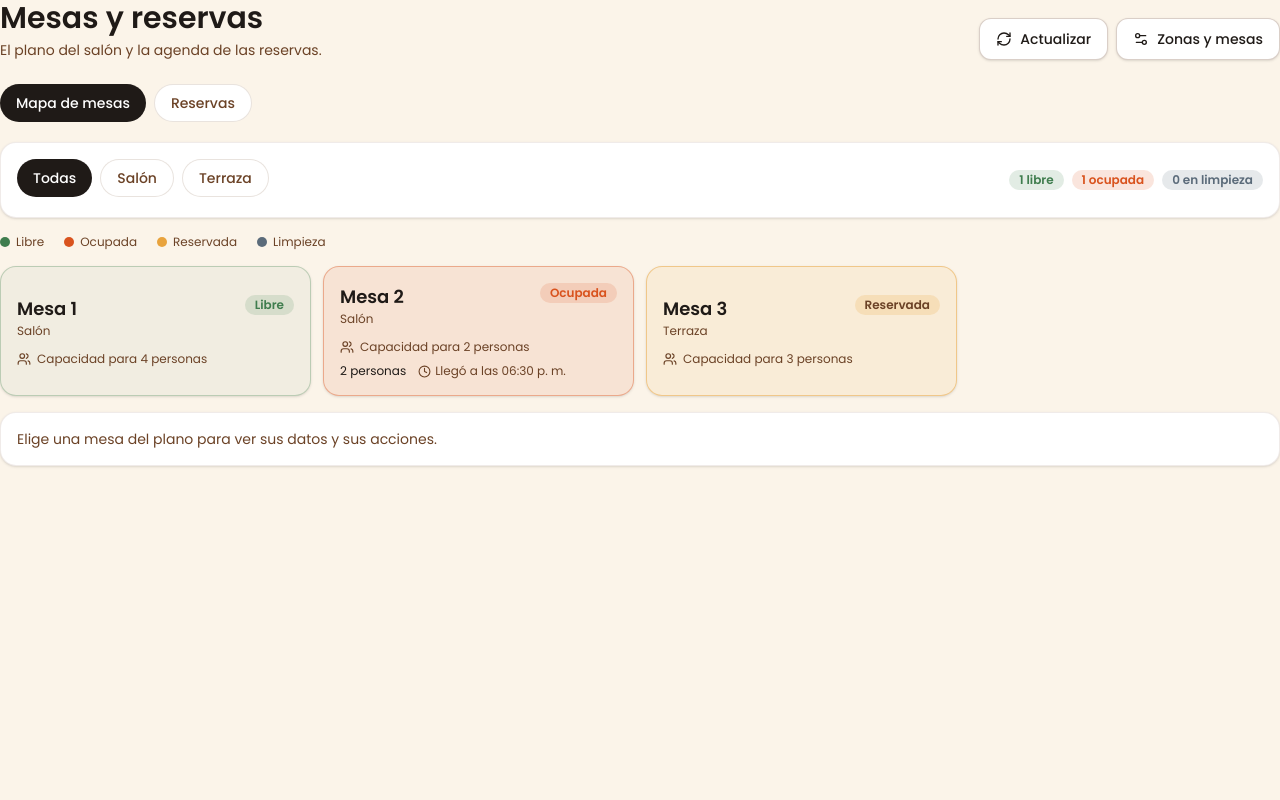
Mesas › registra una llegada, manda personas y refresca la mesa
The image size is (1280, 800).
Click the button with aria-label "Mesa 1, Salón, Libre, capacidad 4" at (44,308), box [0,266,311,396]
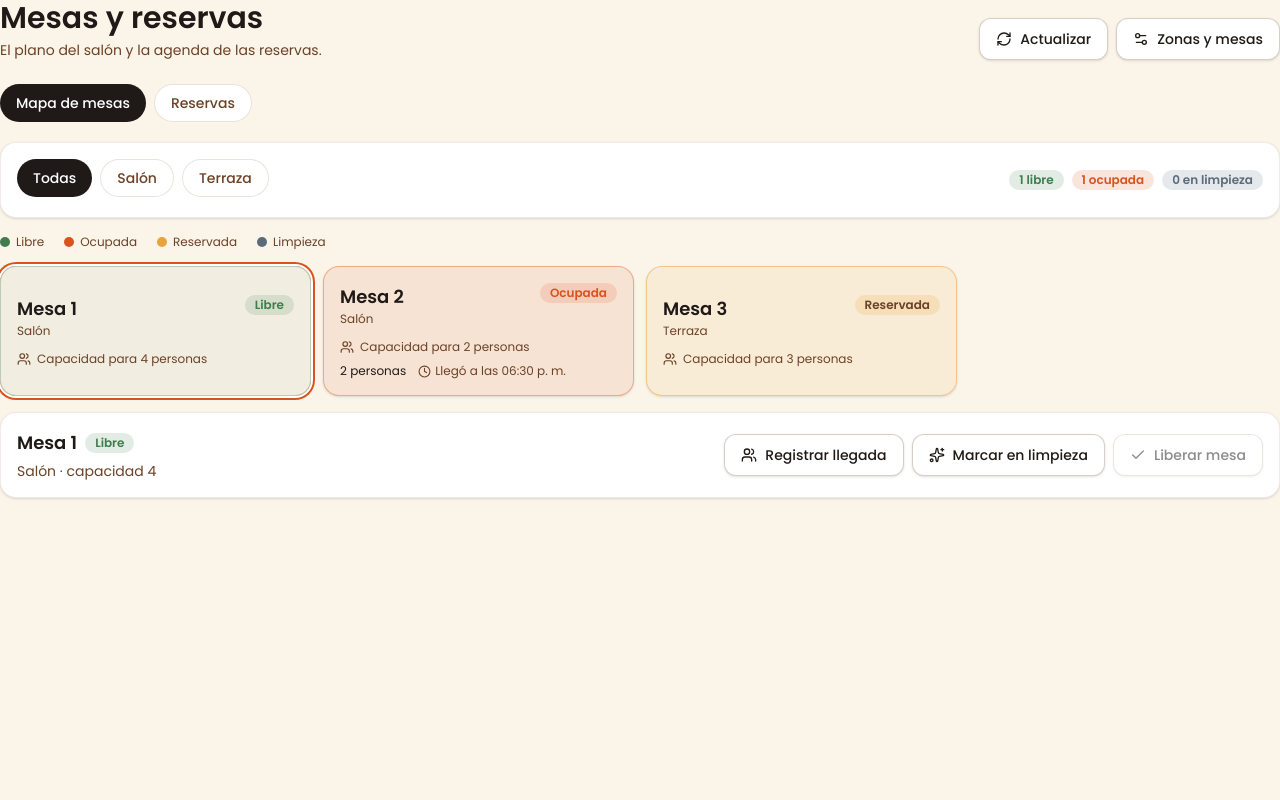
Click the button "Registrar llegada" at (814,455), box [724,434,904,476]
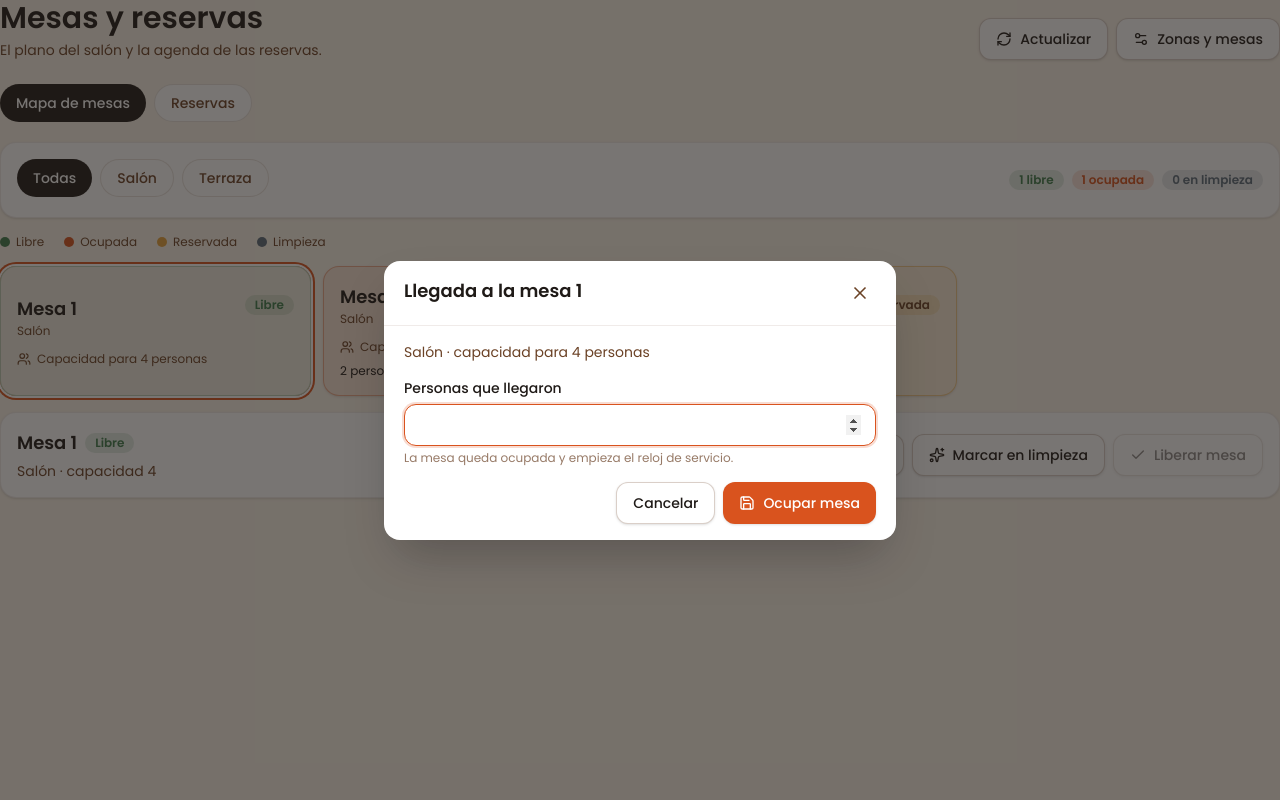
Type "3" into the number field labelled "Personas que llegaron" at (640,424), box [404,404,876,446]
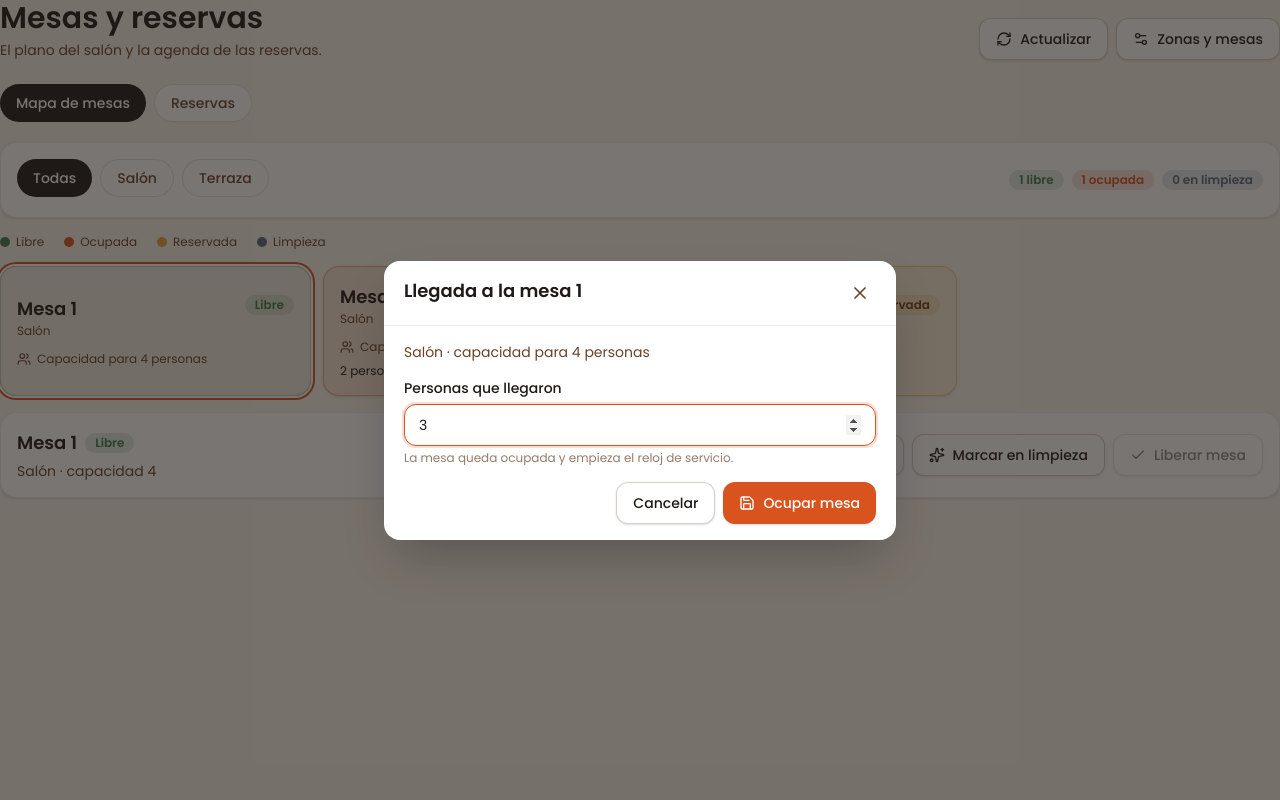
Click the button "Ocupar mesa" at (800,502), box [723,482,876,524]
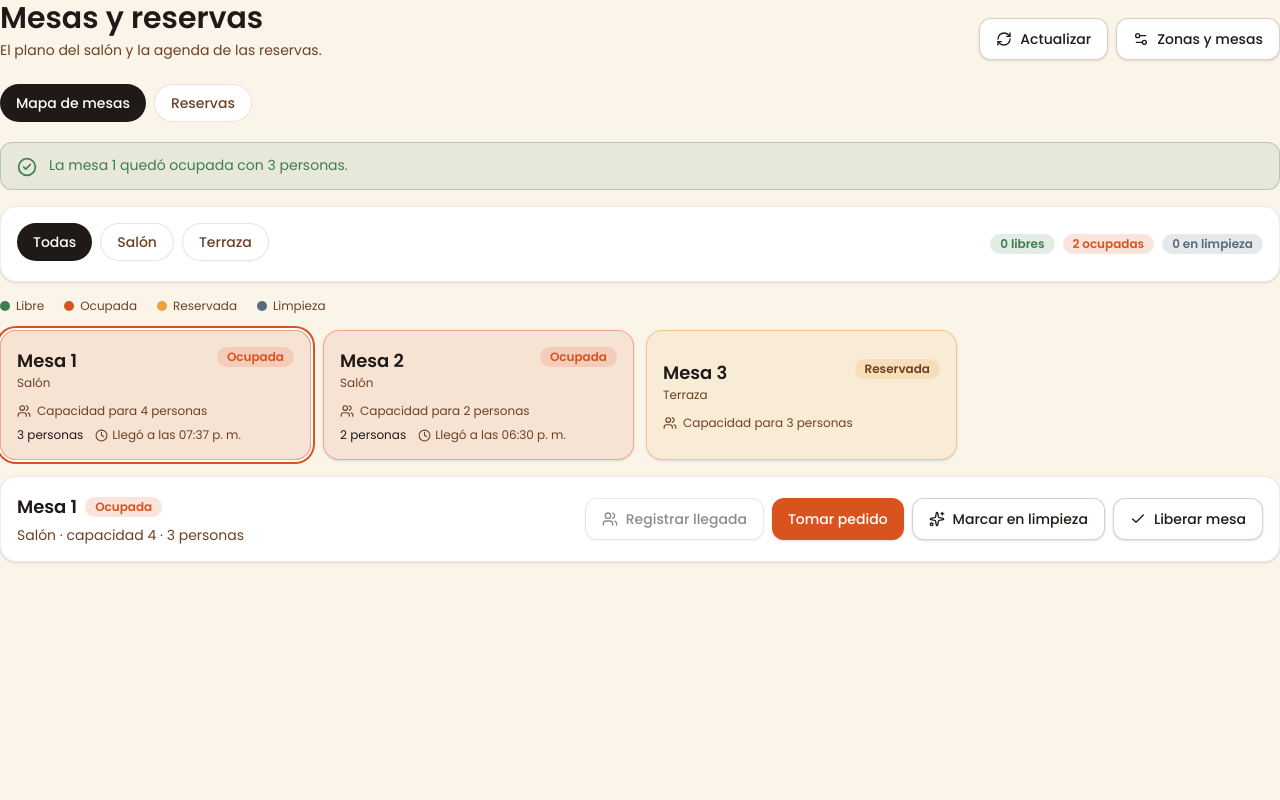
Expected: the text "La mesa 1 quedó ocupada con 3 personas." is shown, [49,155,348,175]
Expected: the button with aria-label "Mesa 1, Salón, Ocupada, capacidad 4" shows "3 personas", [0,330,311,460]
